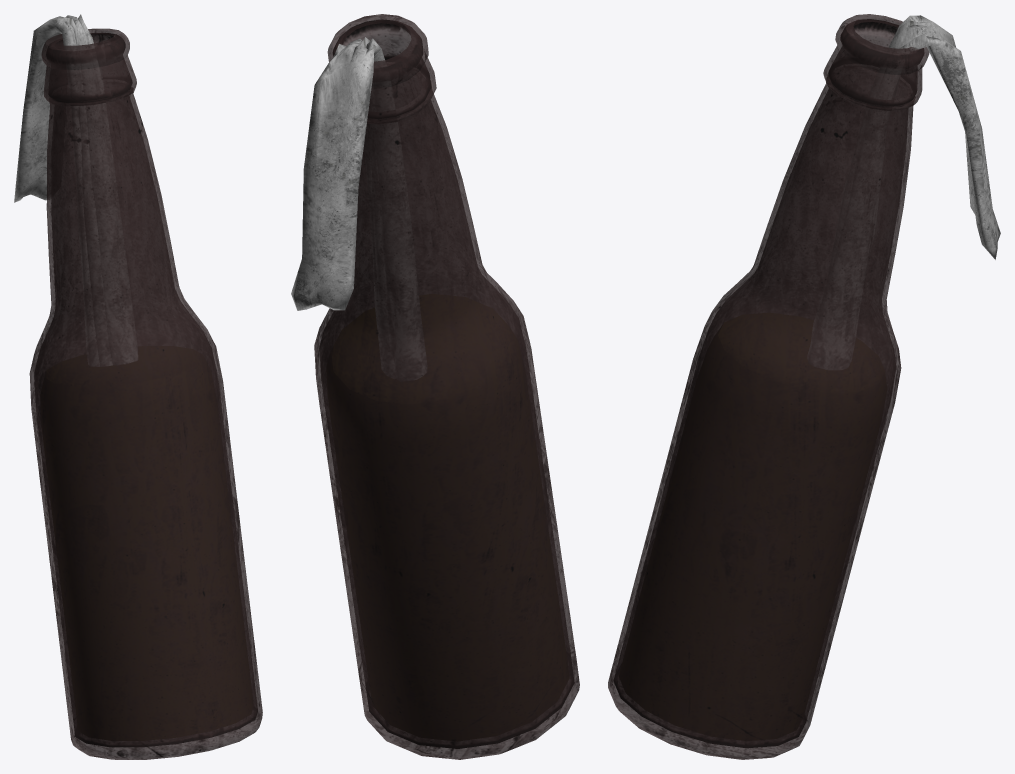
File: cc0-guns-explosives-pack-glb--molotov-cocktail.glb
3 views of the same model, side by side, from view 1: azimuth 30°, elevation 25°; view 2: azimuth 150°, elevation 25°; view 3: azimuth 270°, elevation 25° (orthographic). The views are drawn at different scales.
Visible parts, largest first — view 1: Bottle, Liquid, Fabric; view 2: Bottle, Liquid, Fabric; view 3: Bottle, Liquid, Fabric.
Boxes of the visible parts, left/top/right/bottom form: Bottle: left=29, top=28, right=262, bottom=759; Liquid: left=41, top=346, right=253, bottom=740; Fabric: left=14, top=14, right=137, bottom=366; Bottle: left=314, top=14, right=579, bottom=759; Liquid: left=327, top=294, right=568, bottom=740; Fabric: left=291, top=37, right=426, bottom=379; Bottle: left=608, top=14, right=929, bottom=759; Liquid: left=619, top=313, right=886, bottom=739; Fabric: left=807, top=15, right=1000, bottom=369.
Size of the model in its own units: 0.0545 by 0.2069 by 0.103.
3 materials, 3 textured.
